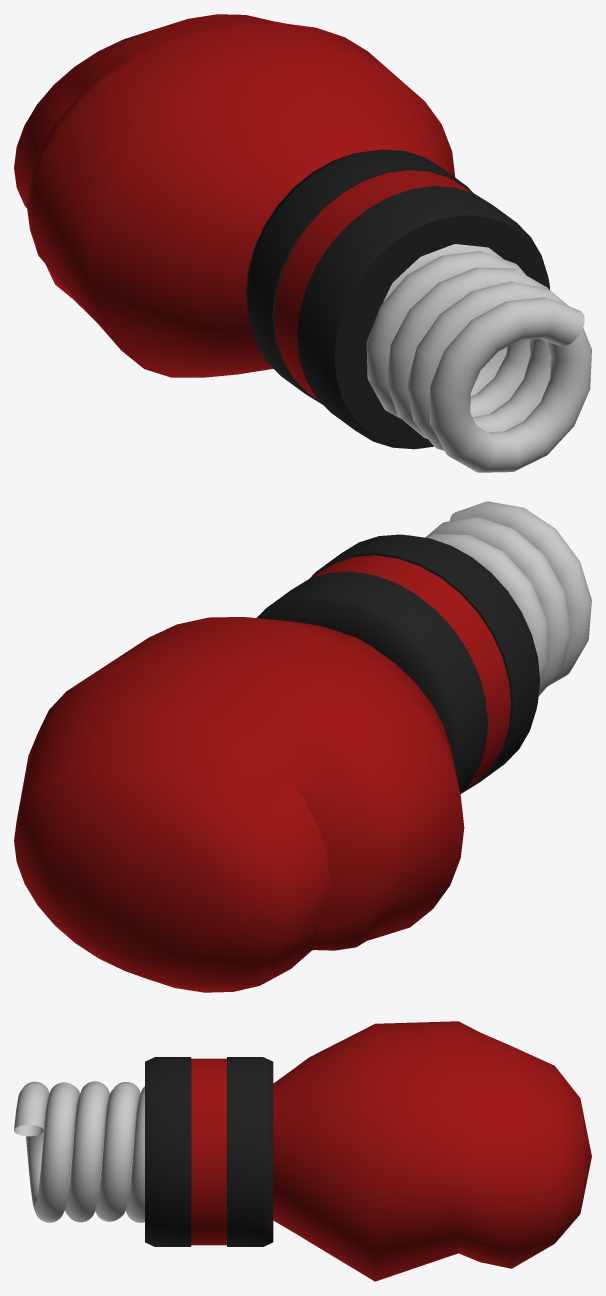
Rendered from BoxingGlove.fbx.
3 views of the same model, one above another, from view 1: azimuth 30°, elevation 25°; view 2: azimuth 150°, elevation 25°; view 3: azimuth 270°, elevation 25° (orthographic). The views are drawn at different scales.
Parts seen in each view (by area): view 1: Circle, Circle.001; view 2: Circle, Circle.001; view 3: Circle, Circle.001.
Boxes of the visible parts, x1,y1,x2,y2 form: Circle: (14,14,549,449); Circle.001: (366,244,591,472); Circle: (14,534,539,992); Circle.001: (425,501,591,696); Circle: (145,1021,591,1281); Circle.001: (14,1081,144,1222).
Bounding box in the file's own units: 279 × 217 × 524.
